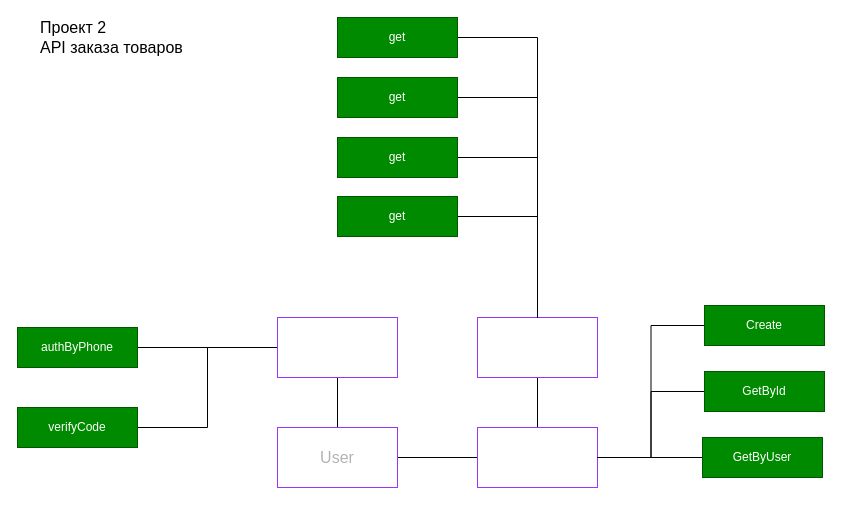
Image size: 842x505. Some labels were removed from this diagram. Here are the shapes that lost their labels. From the top down, the centre of each, then its label:
At pixel 337 347: "Auth".
At pixel 537 347: "Product".
At pixel 537 457: "Cart".
